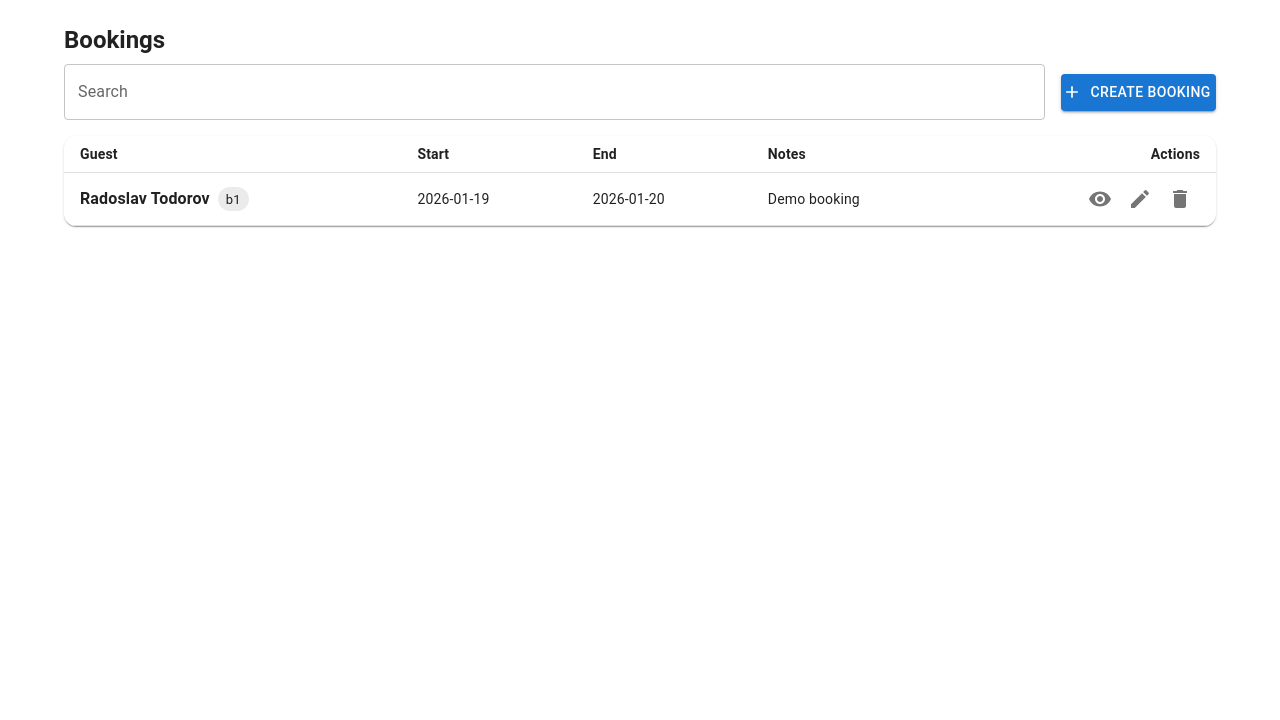
BookingsPage › view opens details dialog and close hides it
Click the button named "view" at (1100, 199), box 1080,179 -> 1120,219
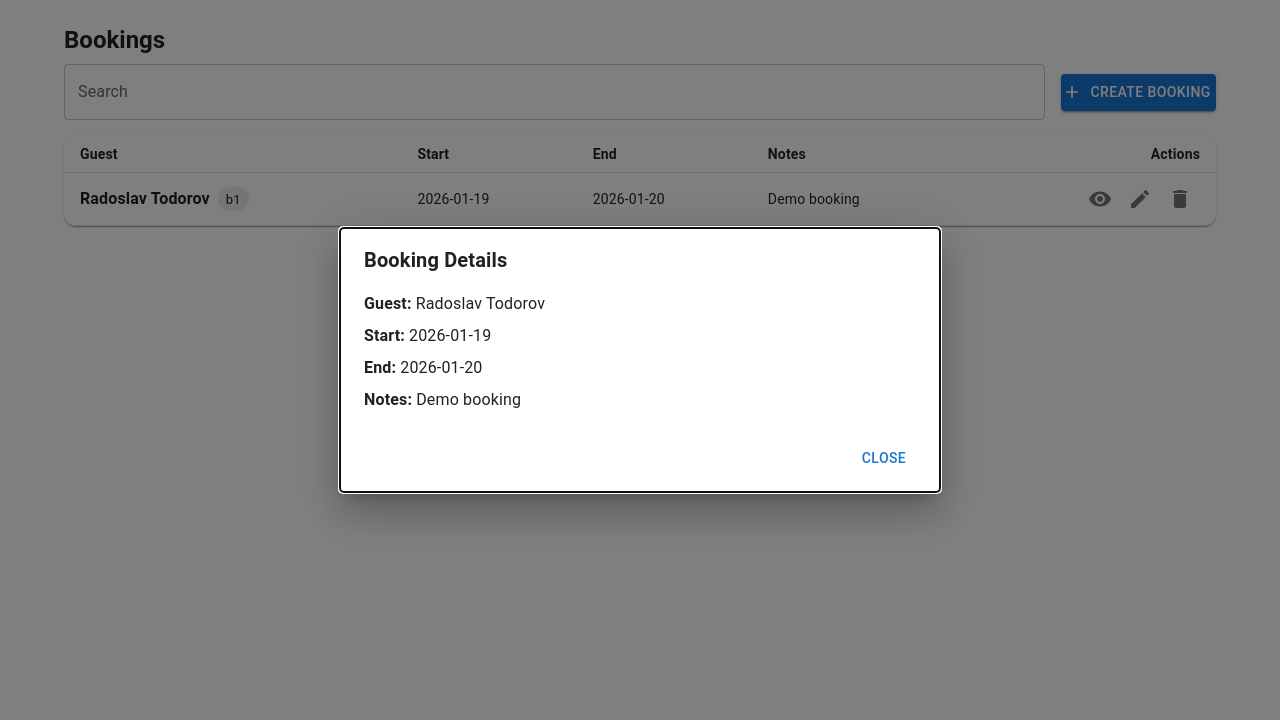
Now the dialog is shown, box 340,228 -> 940,492
Now the heading "Booking Details" is shown, box 364,248 -> 507,272
Click the button "Close" at (884, 458), box 852,440 -> 916,476
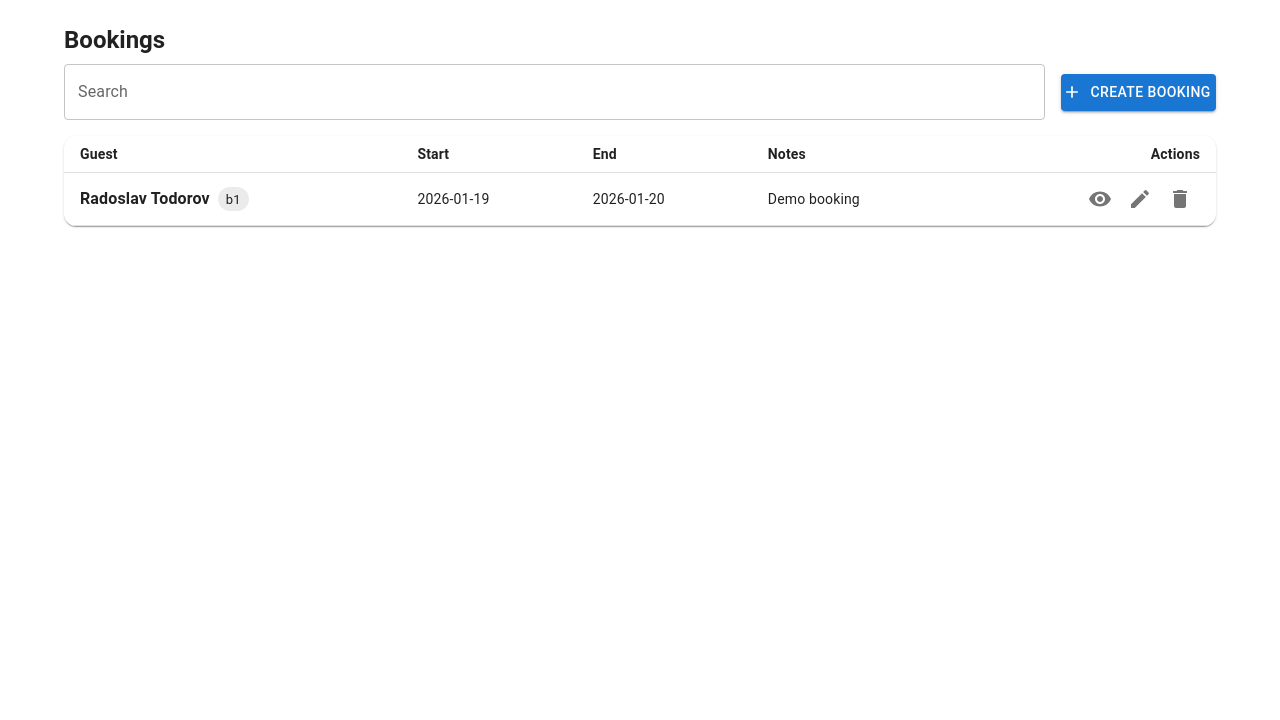
Now the dialog is gone
